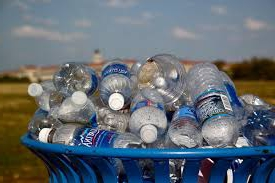plastic water bottle: (186, 63, 240, 147), (135, 51, 189, 109), (40, 119, 146, 147), (126, 95, 168, 143), (97, 60, 137, 110), (55, 60, 100, 98), (170, 98, 202, 148), (60, 91, 100, 125)
